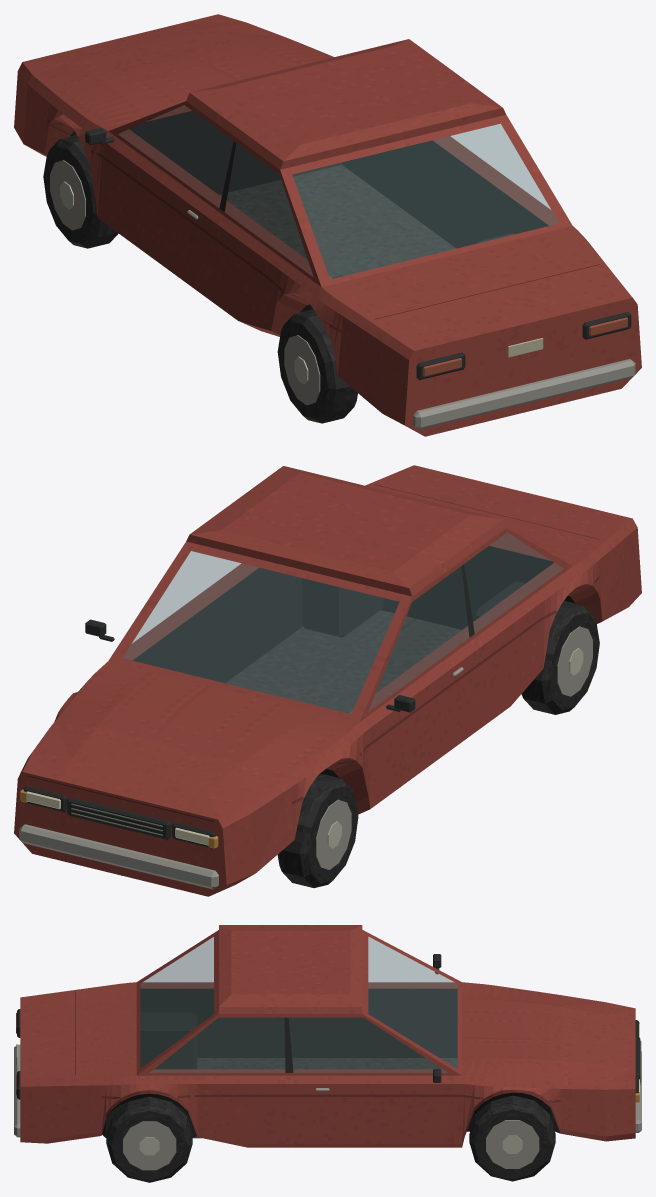
File: vehicle_sedan.glb
3 renders of one model, top to bottom at view 1: azimuth 30°, elevation 25°; view 2: azimuth 150°, elevation 25°; view 3: azimuth 270°, elevation 25°, orthographic. The views are drawn at different scales.
Parts seen in each view (by area): view 1: closed_body, glazing, roof_body; view 2: closed_body, glazing, roof_body; view 3: closed_body, glazing, roof_body.
Boxes of the visible parts, x1,y1,x2,y2 form: closed_body: (14,14,641,436); glazing: (118,105,558,279); roof_body: (186,39,505,169); closed_body: (14,465,641,896); glazing: (123,532,563,713); roof_body: (186,466,506,596); closed_body: (14,930,641,1182); glazing: (140,937,457,1072); roof_body: (219,925,362,1013).
Size of the model in its own units: 2.13 by 1.4 by 4.65.
Materials: 2 (2 with a texture image).
